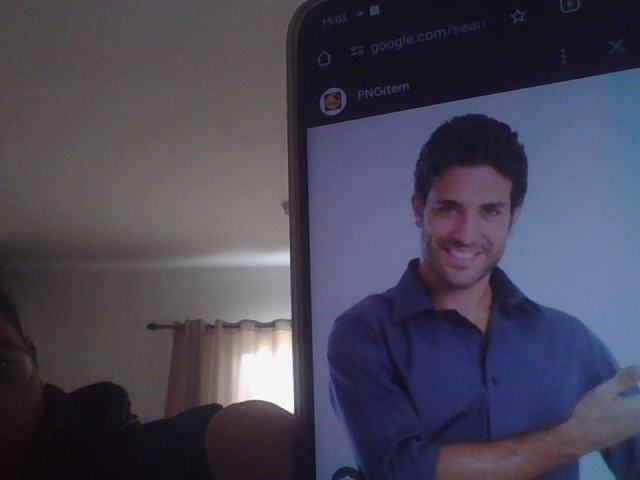fake: (408, 124, 528, 294)
